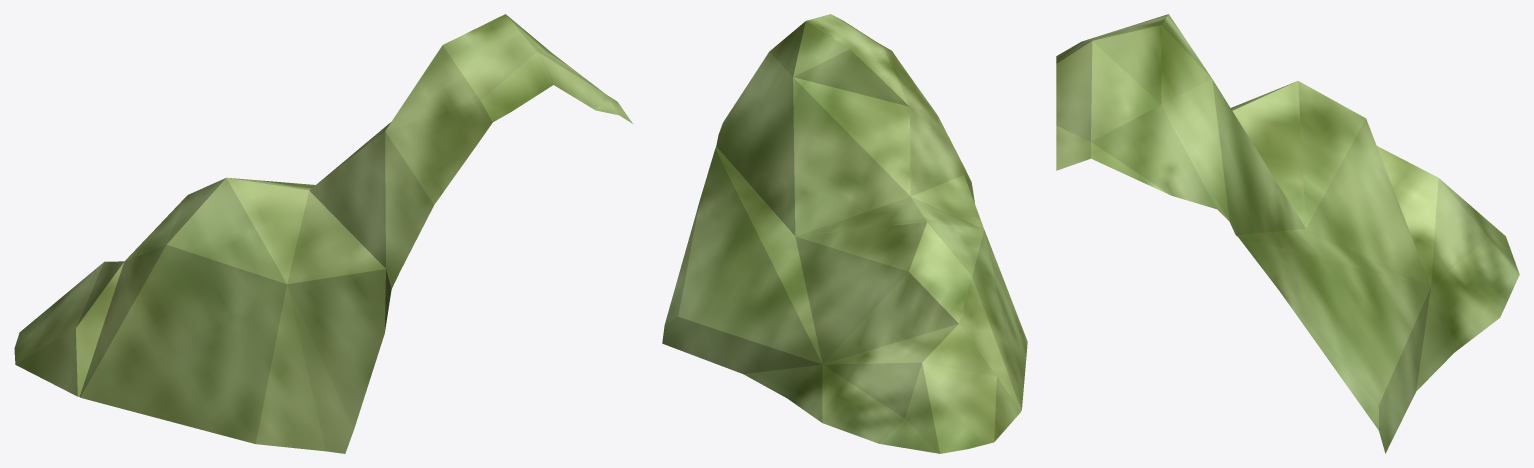
3 renders of one model, left to right at view 1: azimuth 30°, elevation 25°; view 2: azimuth 150°, elevation 25°; view 3: azimuth 270°, elevation 25°, orthographic. The views are drawn at different scales.
Bounding box in the file's own units: 0.6144 × 0.4676 × 0.5084.
1 material, 1 textured.
